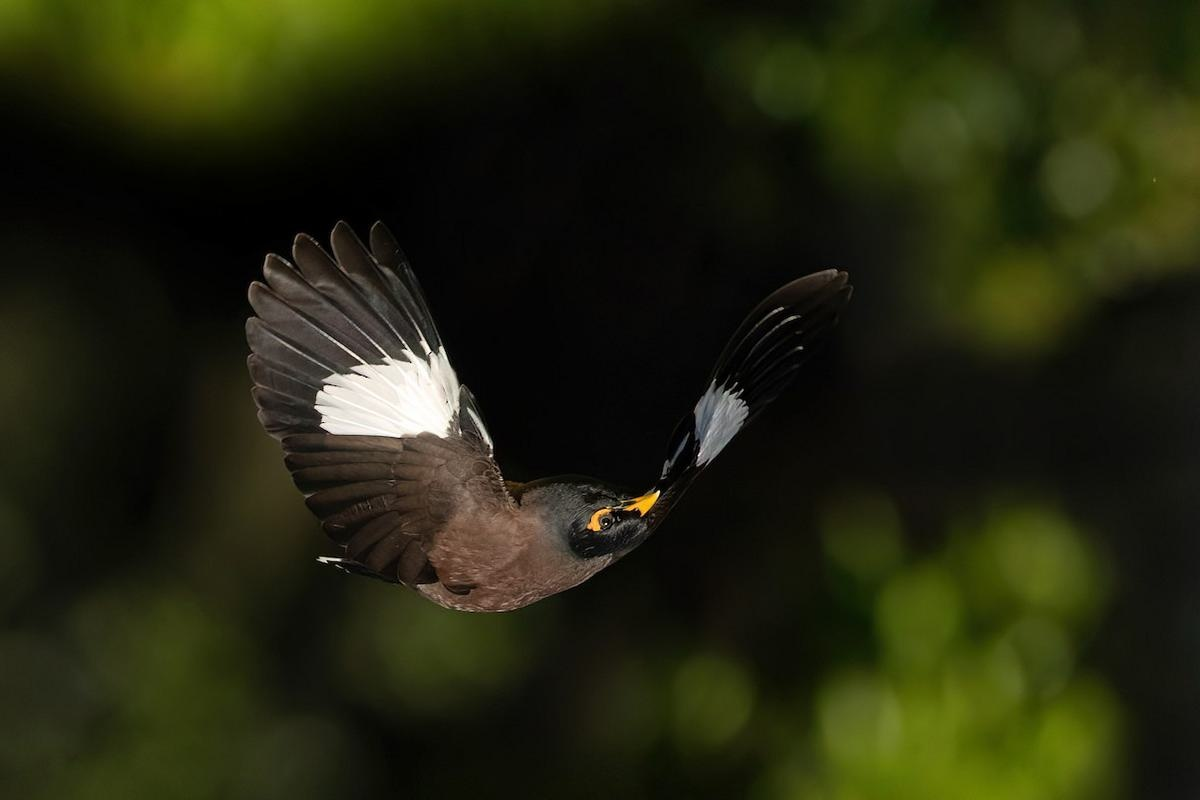myna: (224, 224, 785, 636)
